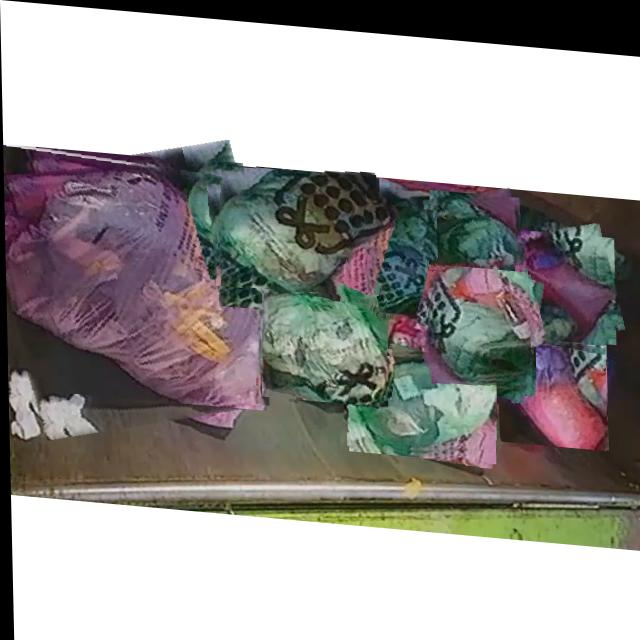general_trashbag: (219, 165, 375, 286), (261, 279, 386, 398), (351, 352, 495, 443), (427, 254, 530, 376), (347, 197, 449, 304), (436, 188, 523, 256)
other_trashbag: (4, 158, 266, 405), (475, 230, 616, 322), (499, 324, 605, 438), (390, 302, 518, 391)
